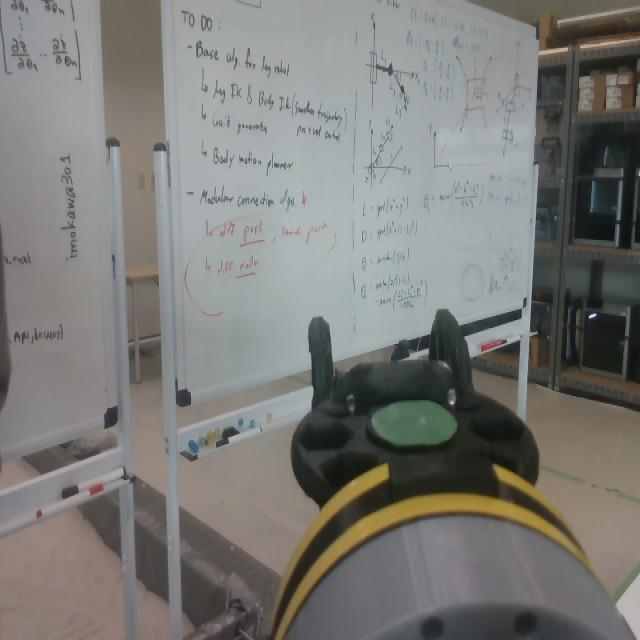body_connector: (281, 516, 640, 640)
connection: (265, 455, 633, 640)
leg: (270, 309, 592, 640)
leg_connector: (258, 451, 601, 640)
marker: (370, 400, 457, 448)
